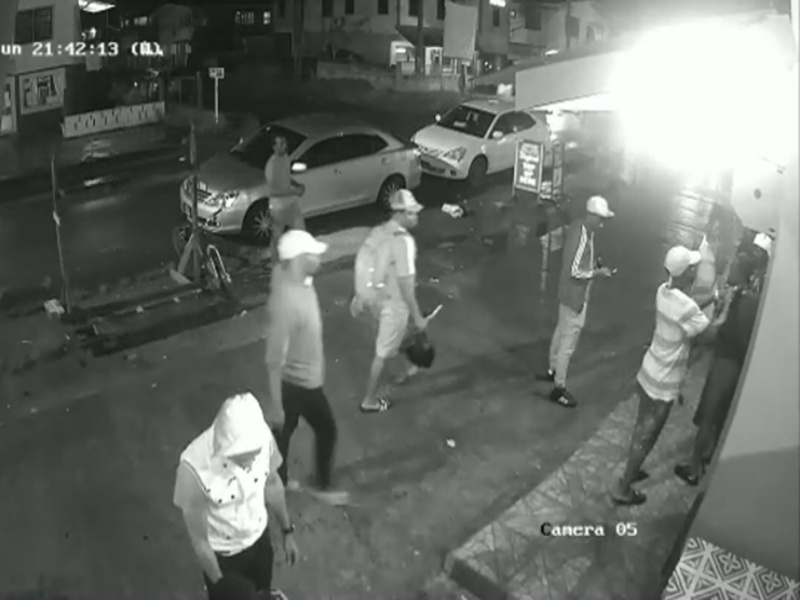car: (171, 112, 425, 247), (409, 94, 556, 191)
person: (600, 229, 736, 516), (168, 388, 305, 600), (260, 224, 357, 516), (343, 184, 446, 416), (538, 183, 625, 414), (263, 132, 311, 266)
